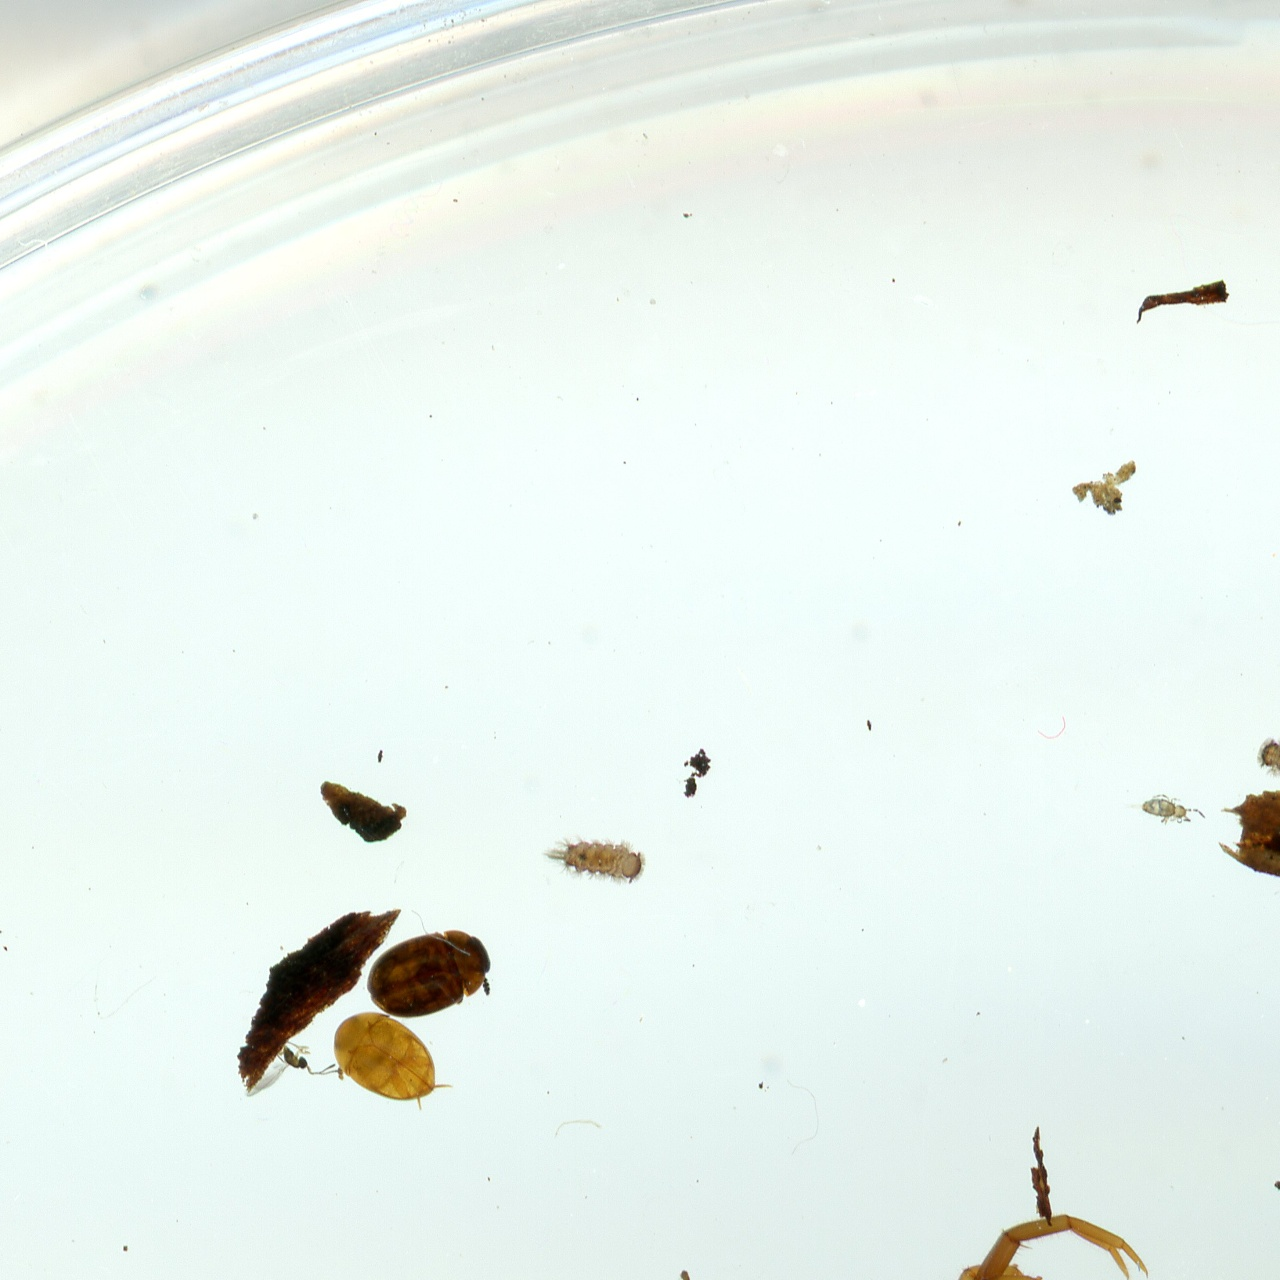arthropod: (331, 1009, 448, 1112), (365, 926, 497, 1008), (539, 828, 645, 886), (256, 1043, 328, 1101), (1136, 790, 1210, 830), (1257, 730, 1280, 785)
